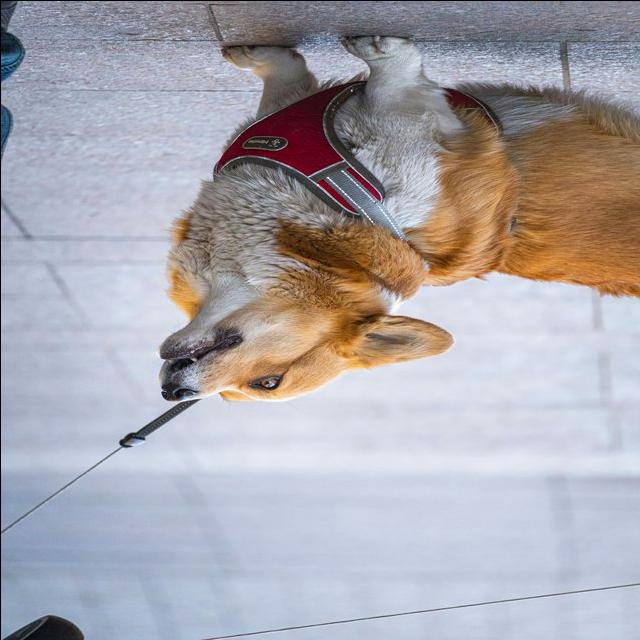corgi: (157, 33, 640, 405)
